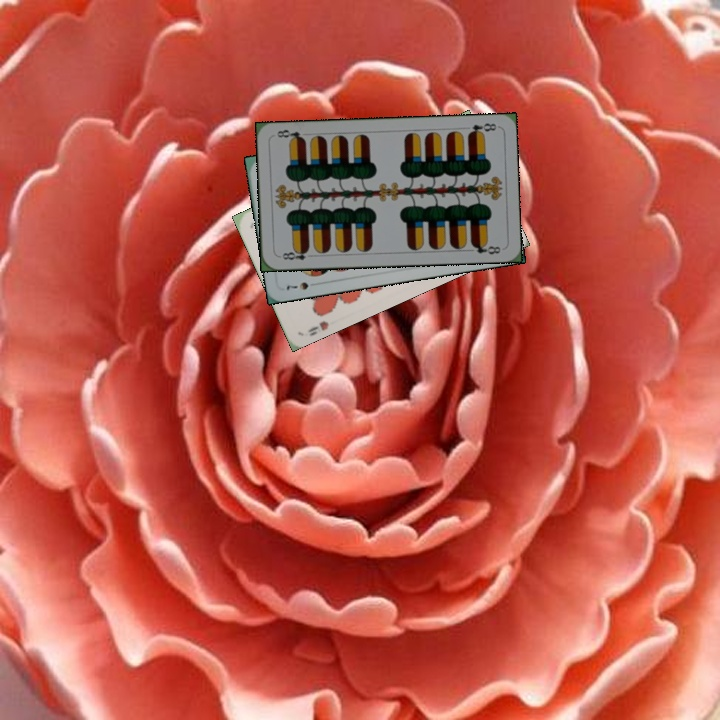E8: (276, 245, 316, 262), (464, 119, 499, 138)
H9: (303, 317, 331, 339)
S7: (282, 278, 321, 292)
